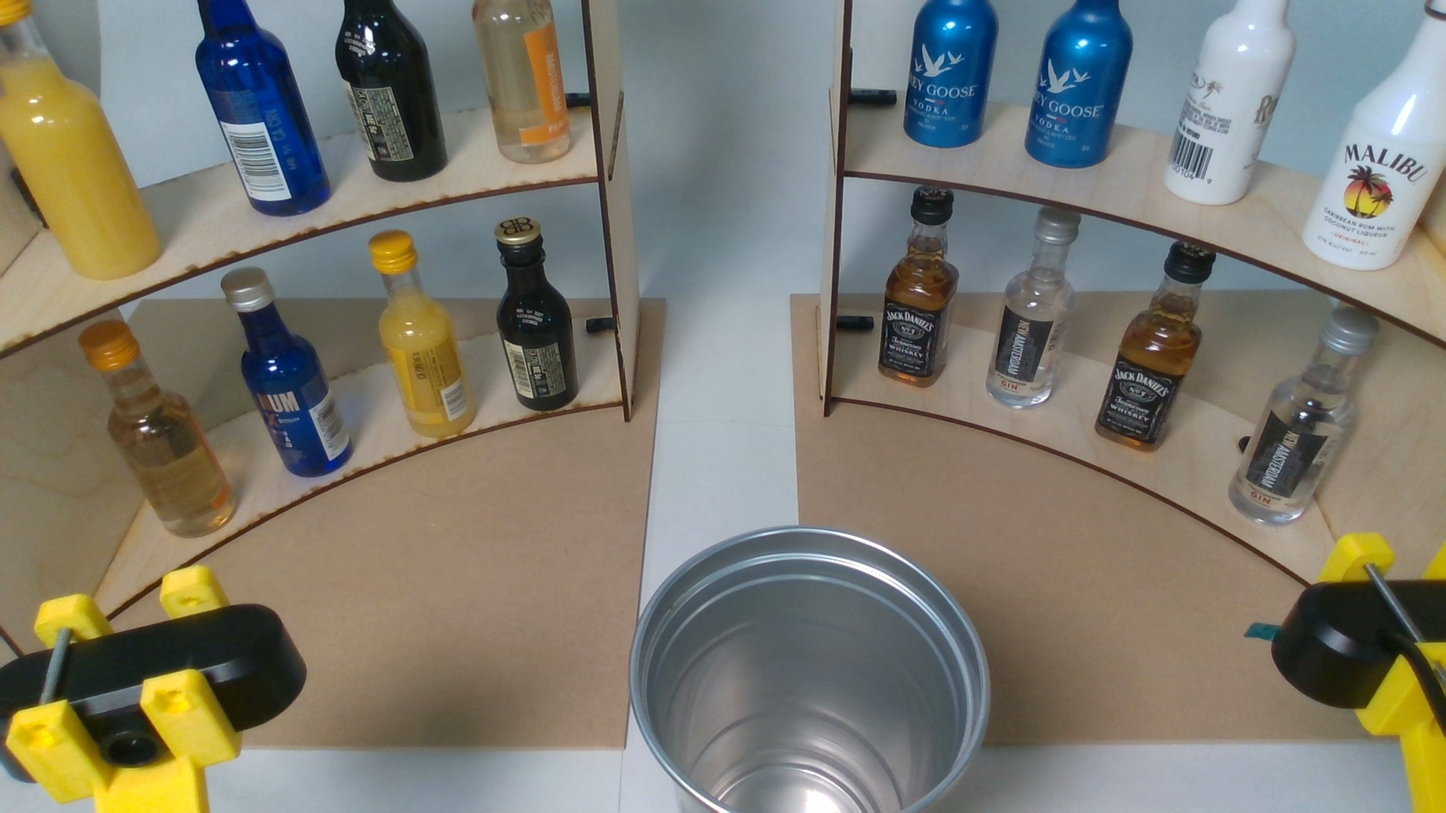coke: (336, 0, 451, 181), (492, 217, 581, 411)
gin: (1230, 306, 1379, 529), (989, 203, 1081, 410)
ginger_beer: (79, 320, 238, 540), (472, 0, 575, 165)
orange_juice: (0, 0, 166, 279), (367, 230, 478, 438)
tequila: (1303, 0, 1446, 269)
tonic_water: (195, 0, 337, 216), (222, 268, 354, 475)
vodka: (1025, 0, 1137, 168), (903, 0, 1001, 152)
whiskey: (1096, 238, 1215, 454), (878, 184, 958, 390)
